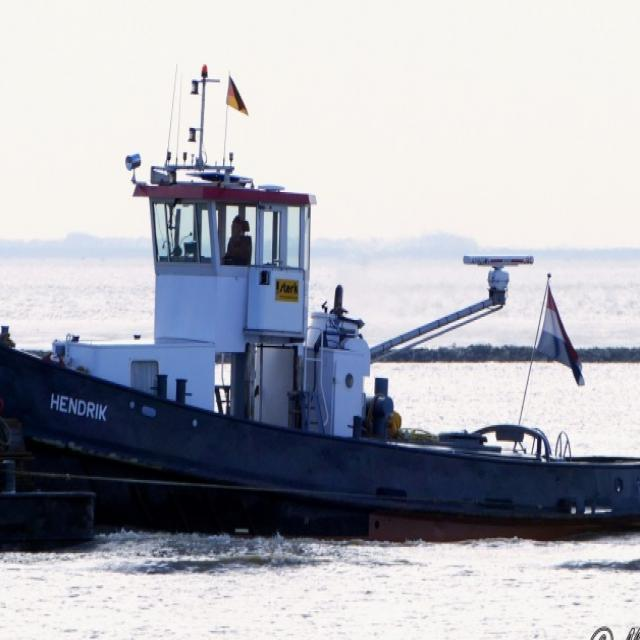tugboat: (1, 146, 640, 562)
